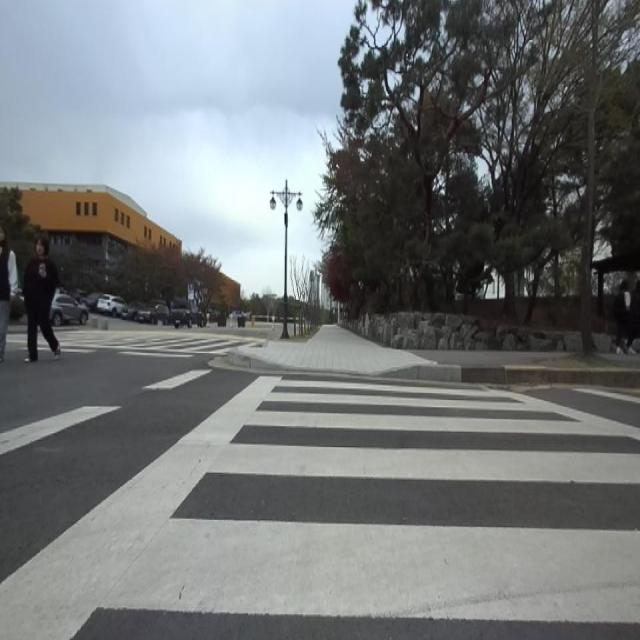sidewalk: (231, 324, 439, 379), (413, 350, 640, 368)
